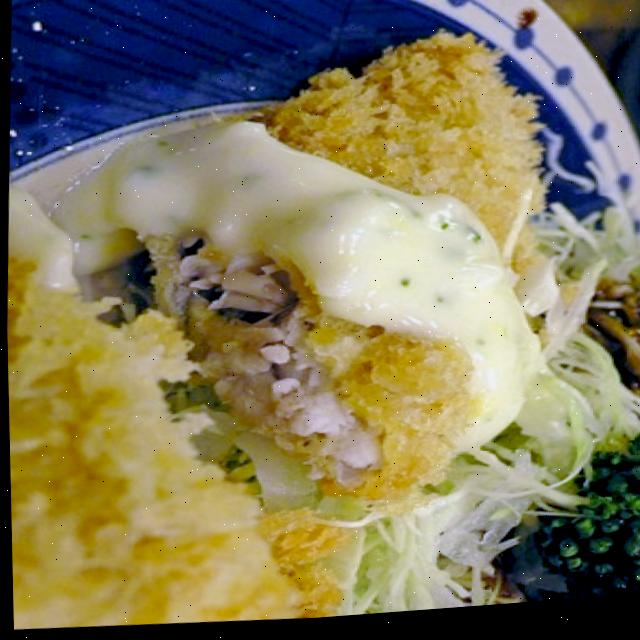炸货点心: (114, 23, 609, 582)
熟制海鲜: (114, 23, 609, 582)
